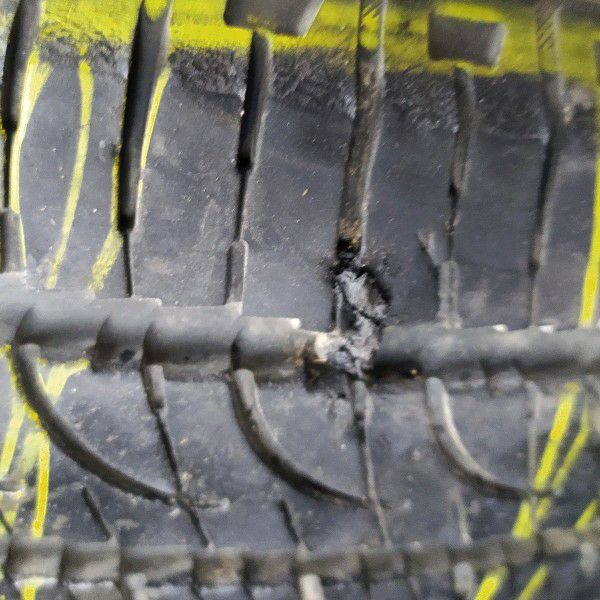tr: (301, 231, 402, 447)
